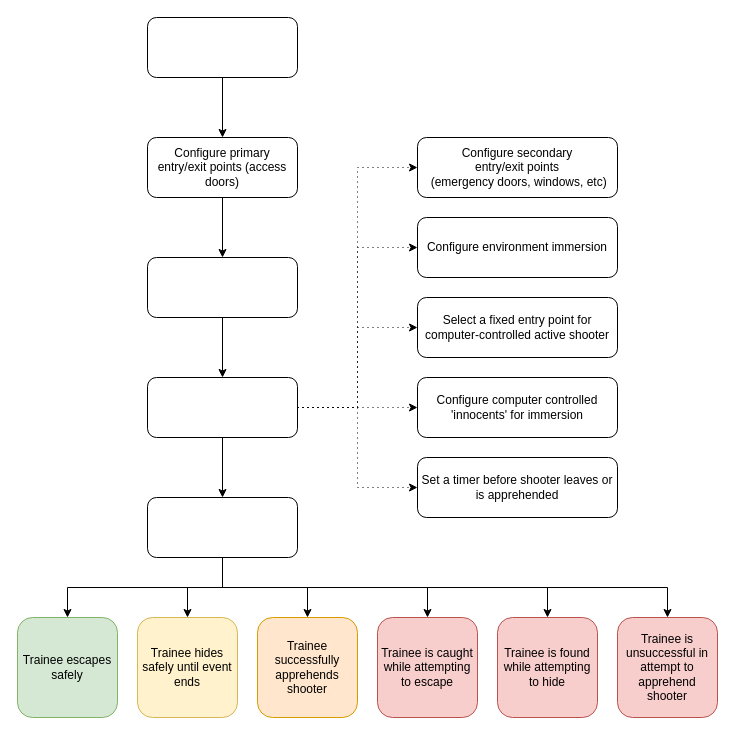
Image size: 735x735. Some labels were removed from this diagram. The centre of each missing label's shape, as x and y in pixels:
Add 3d-scanned or modelled environment: point 222,47
Configure optional settings if preferred or required: point 222,407
Set a starting point for virtual environment trainee: point 222,287
Trainee dons virtual reality equipment & begins training: point 222,527
